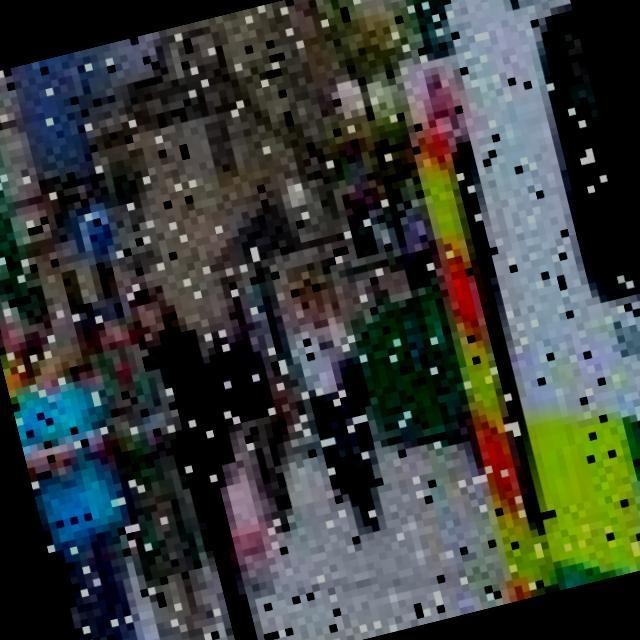emergency-vehicle: (320, 0, 640, 611)
